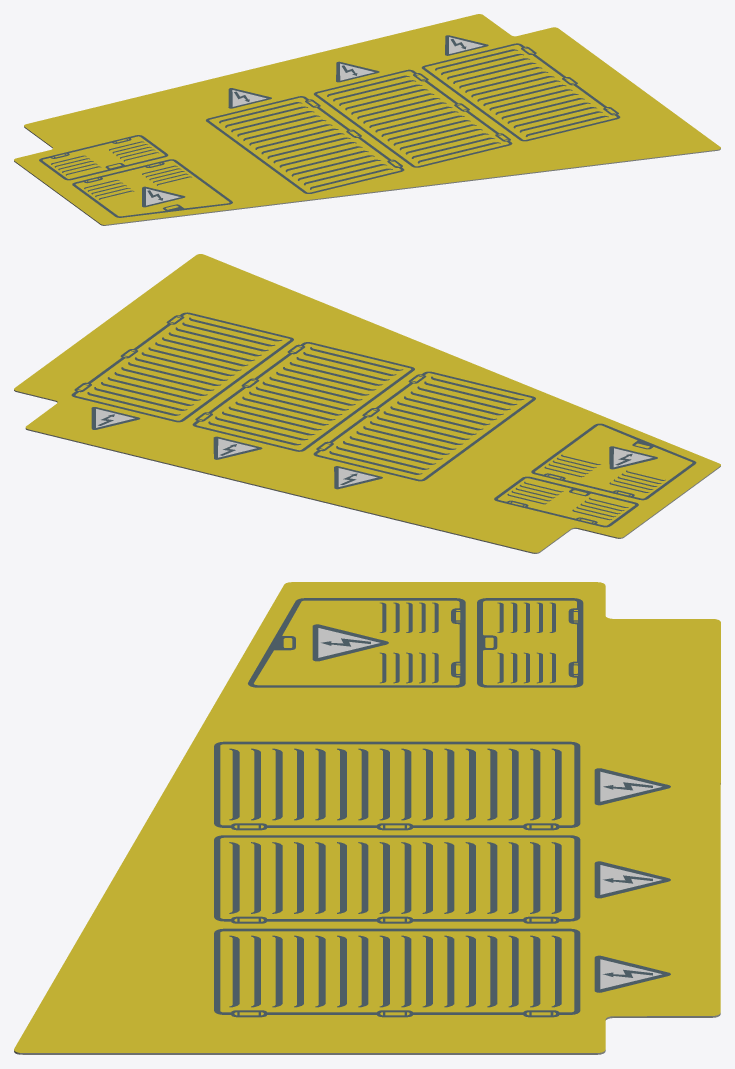
3 views of the same model, one above another, from view 1: azimuth 30°, elevation 25°; view 2: azimuth 150°, elevation 25°; view 3: azimuth 270°, elevation 25° (orthographic). The views are drawn at different scales.
Visible parts, largest first — view 1: world; view 2: world; view 3: world.
Part boxes in pixels (x1,y1,x2,y2): world: [14, 14, 720, 225]; world: [14, 254, 720, 553]; world: [14, 582, 720, 1054].
Size of the model in its own units: 0.055 by 0.0001 by 0.0349.
